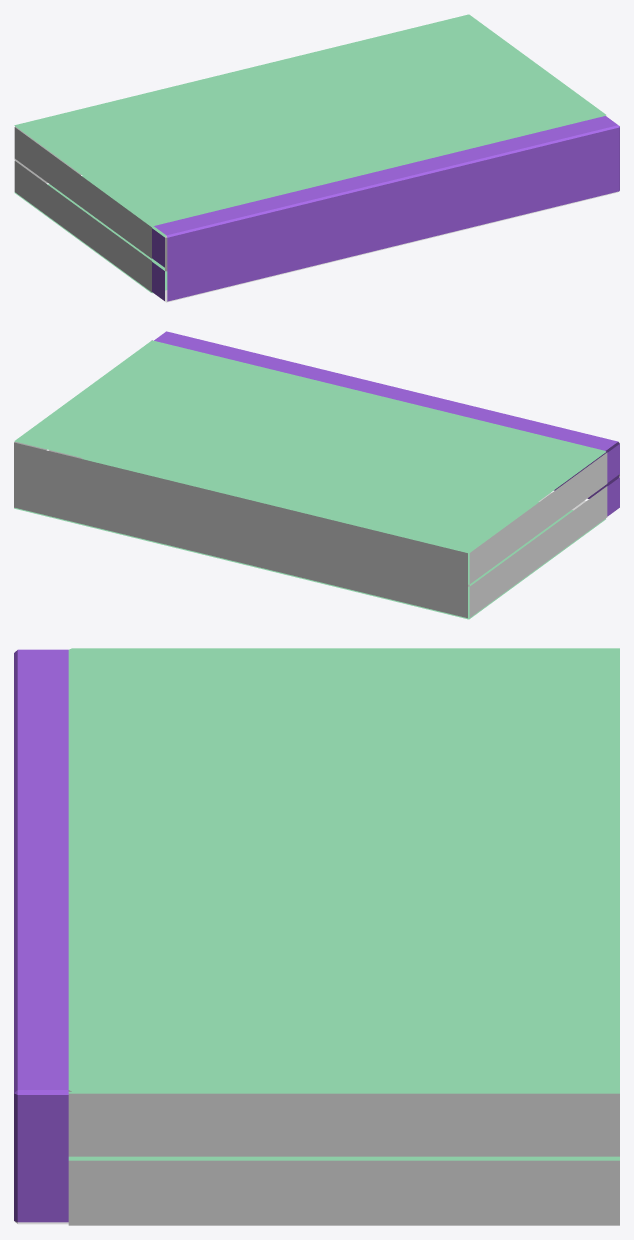
File: book.glb
3 renders of one model, top to bottom at view 1: azimuth 30°, elevation 25°; view 2: azimuth 150°, elevation 25°; view 3: azimuth 270°, elevation 25°, orthographic. The views are drawn at different scales.
Parts seen in each view (by area): view 1: Cube.001; view 2: Cube.001; view 3: Cube.001.
Part boxes in pixels (x1=…): Cube.001: x1=14, y1=14, x2=619, y2=302; Cube.001: x1=14, y1=331, x2=619, y2=619; Cube.001: x1=14, y1=648, x2=619, y2=1225.
Size of the model in its own units: 1.73 by 0.2444 by 1.
